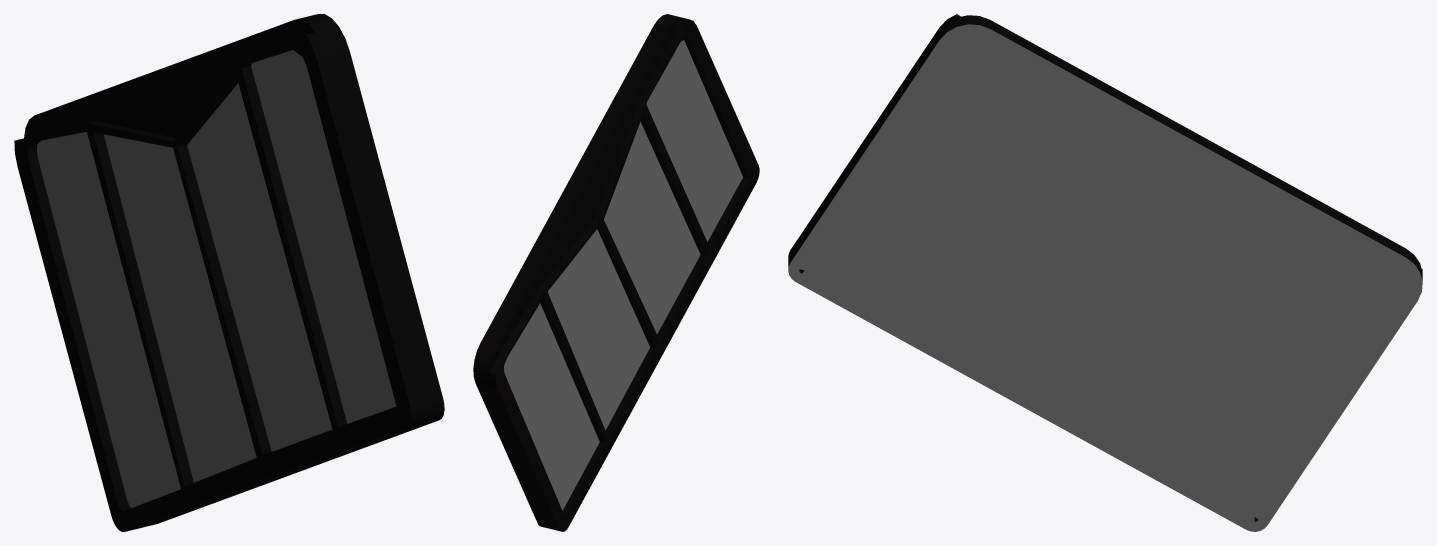
Rendered from Persiana.fbx.
The picture shows the model from 3 angles, left to right: view 1: azimuth 30°, elevation 25°; view 2: azimuth 150°, elevation 25°; view 3: azimuth 270°, elevation 25°; orthographic projection. The views are drawn at different scales.
Visible parts, largest first — view 1: Persiana; view 2: Persiana; view 3: Persiana.
Part boxes in pixels (x1=…): Persiana: x1=14, y1=14, x2=444, y2=531; Persiana: x1=473, y1=14, x2=759, y2=531; Persiana: x1=788, y1=14, x2=1422, y2=531.
Bounding box in the file's own units: 23.63 × 435 × 493.
